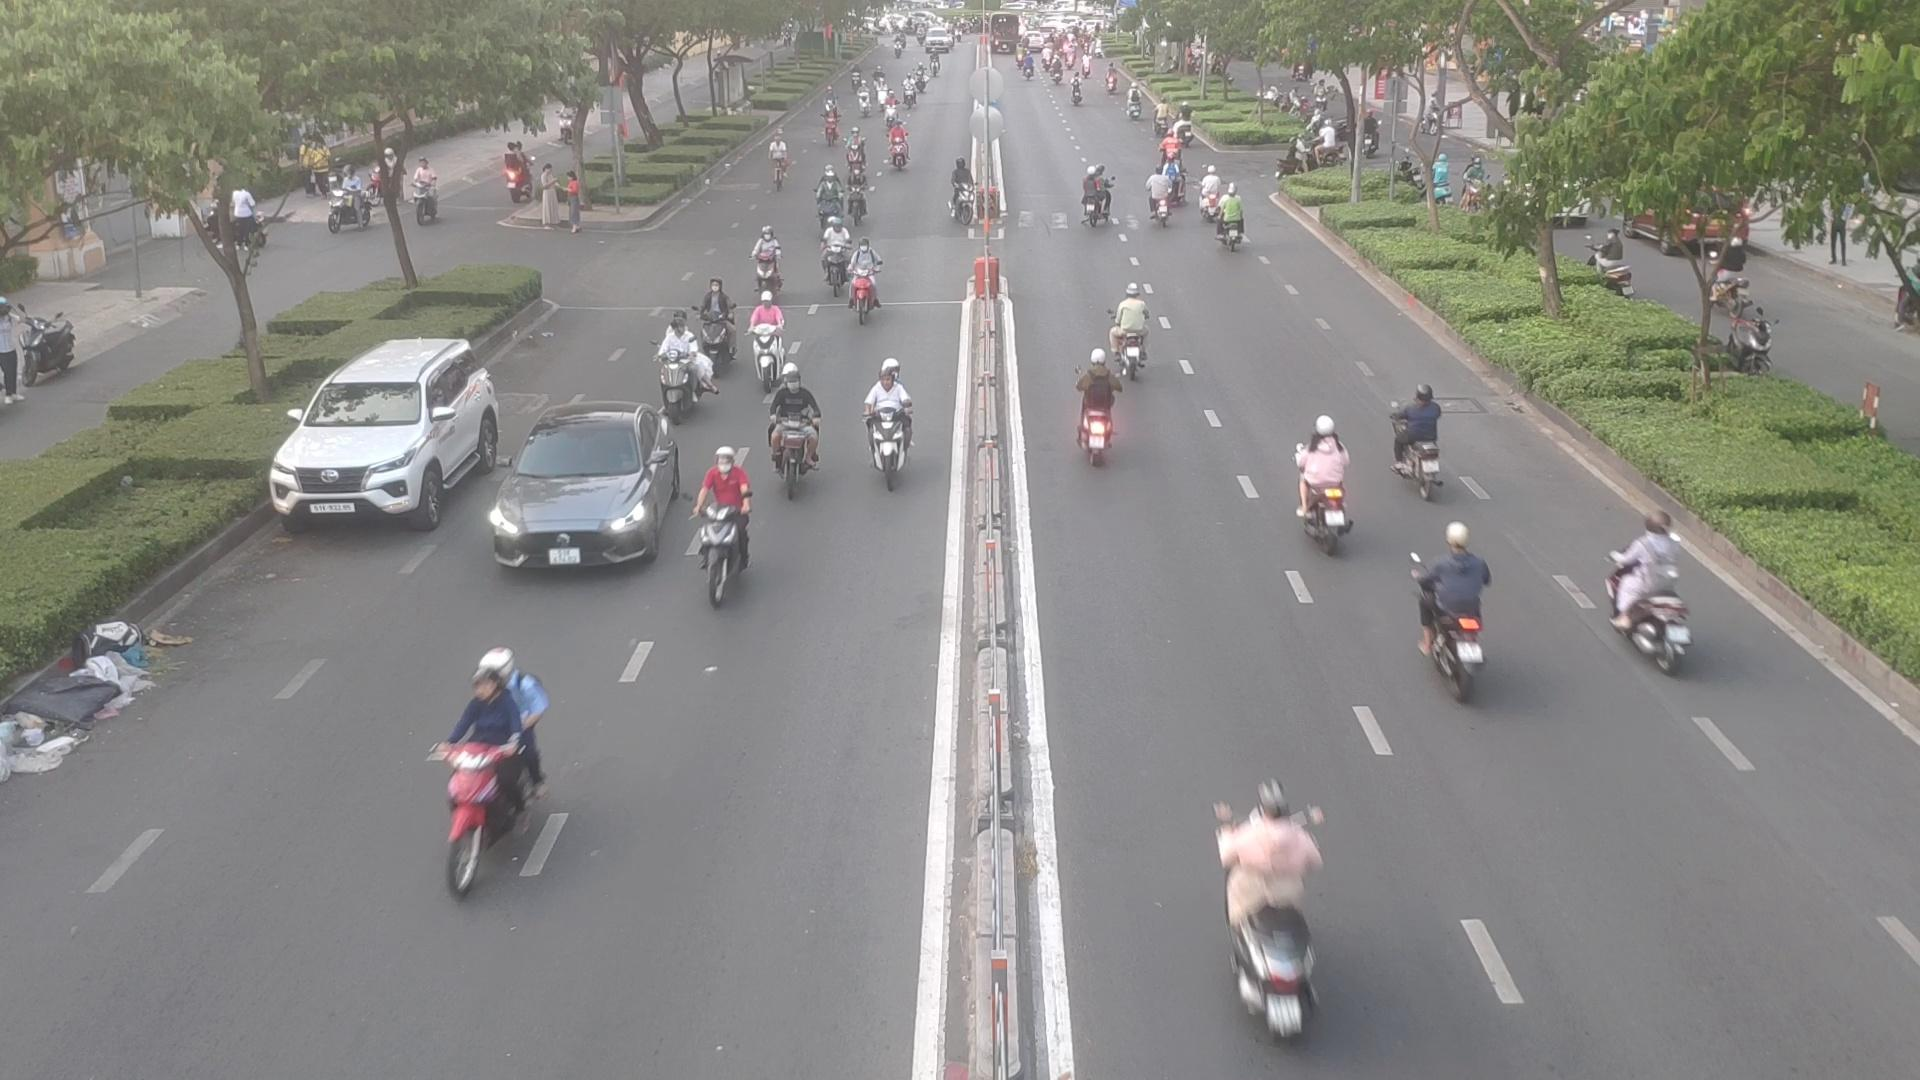car: (272, 334, 516, 525), (492, 401, 691, 568)
motorbike: (409, 651, 559, 899), (1215, 835, 1338, 1034), (1614, 524, 1705, 673), (1412, 531, 1494, 688), (690, 451, 749, 603), (1284, 415, 1352, 549), (857, 367, 919, 492), (762, 361, 815, 502), (1065, 351, 1127, 465), (1387, 382, 1449, 485), (1106, 284, 1171, 372), (651, 326, 713, 413), (694, 280, 744, 364), (855, 239, 894, 323), (811, 211, 849, 297), (746, 231, 783, 303), (1075, 166, 1116, 229), (749, 287, 775, 382), (1146, 164, 1179, 225), (807, 164, 836, 229), (943, 164, 973, 224), (1217, 186, 1241, 253), (1203, 169, 1226, 233), (881, 125, 913, 171), (844, 162, 869, 218), (843, 131, 866, 167), (822, 107, 841, 150)
